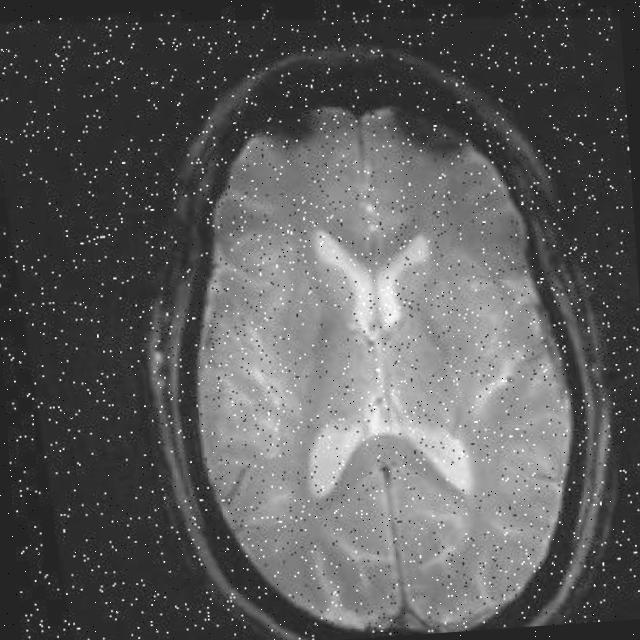EMCI: (377, 112, 459, 159)
MCI: (273, 104, 319, 139)
